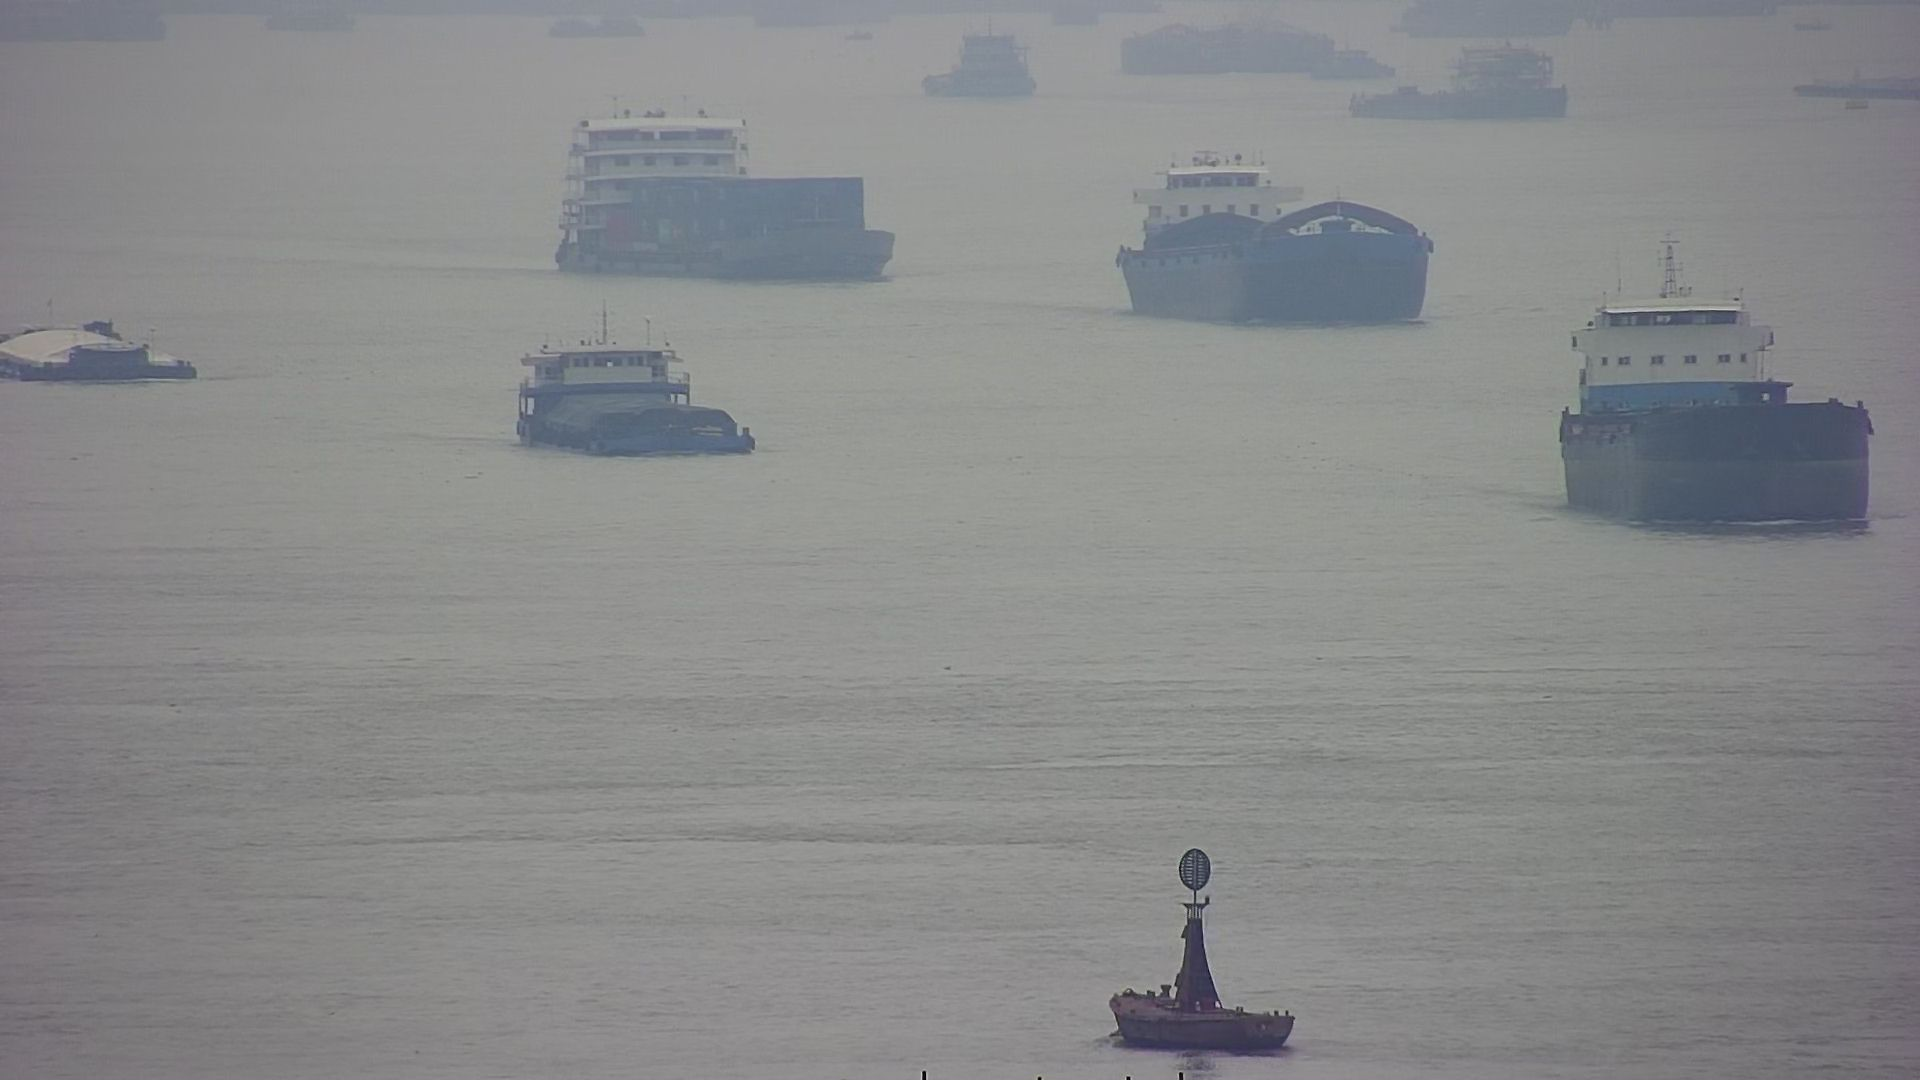boat: (1105, 851, 1298, 1052)
ship: (1549, 264, 1876, 531), (517, 105, 903, 286), (1110, 160, 1440, 327), (504, 318, 764, 464), (3, 294, 198, 388)
